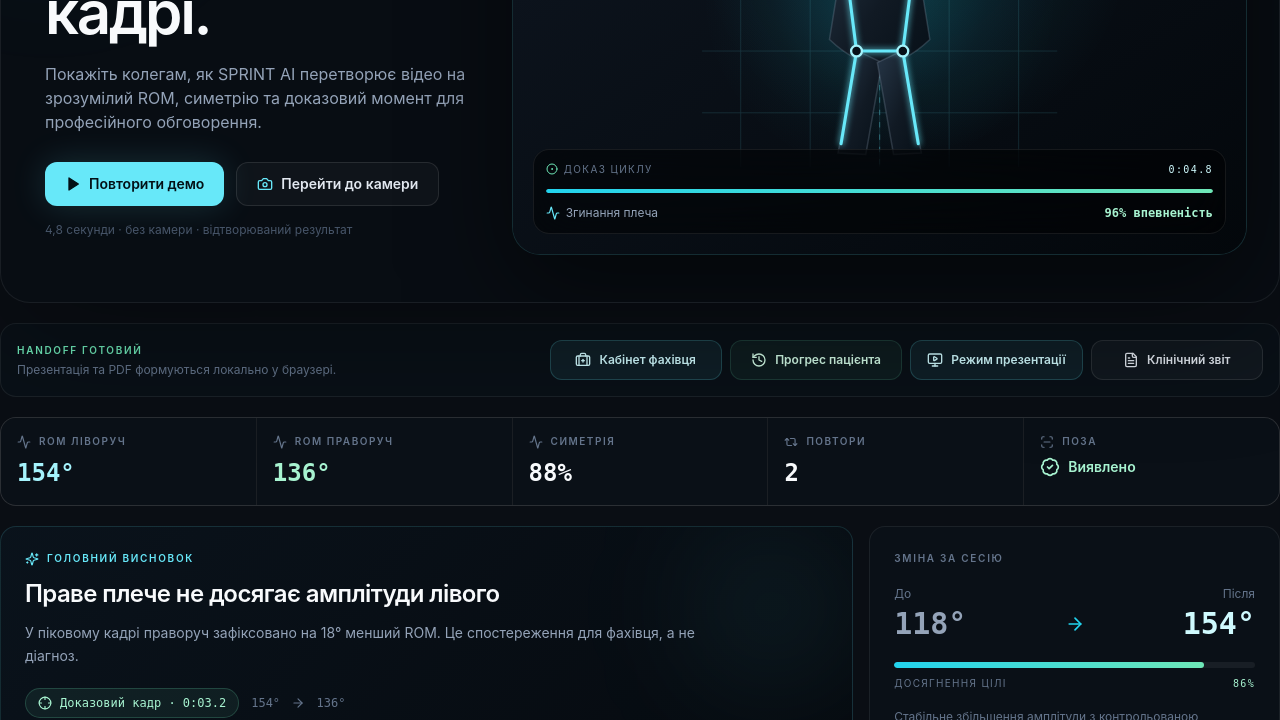
Test: RehabilitationPage › opens presentation and report from the completed demo
This screenshot has width=1280, height=720.
(page scrolled)
Click the button "Режим презентації".
click(996, 360)  # box left=910, top=340, right=1083, bottom=380
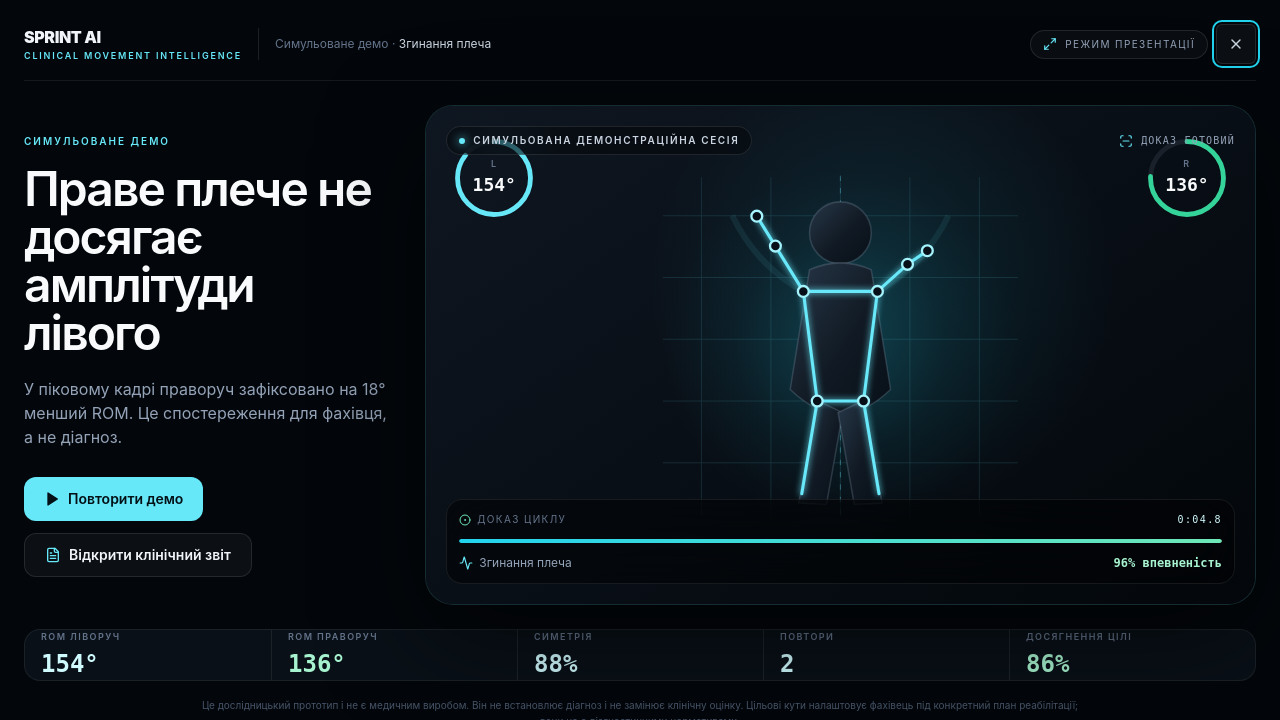
Check: the dialog named "Режим презентації" is shown
Click the button "Відкрити клінічний звіт".
click(138, 554)  # box left=24, top=532, right=252, bottom=576
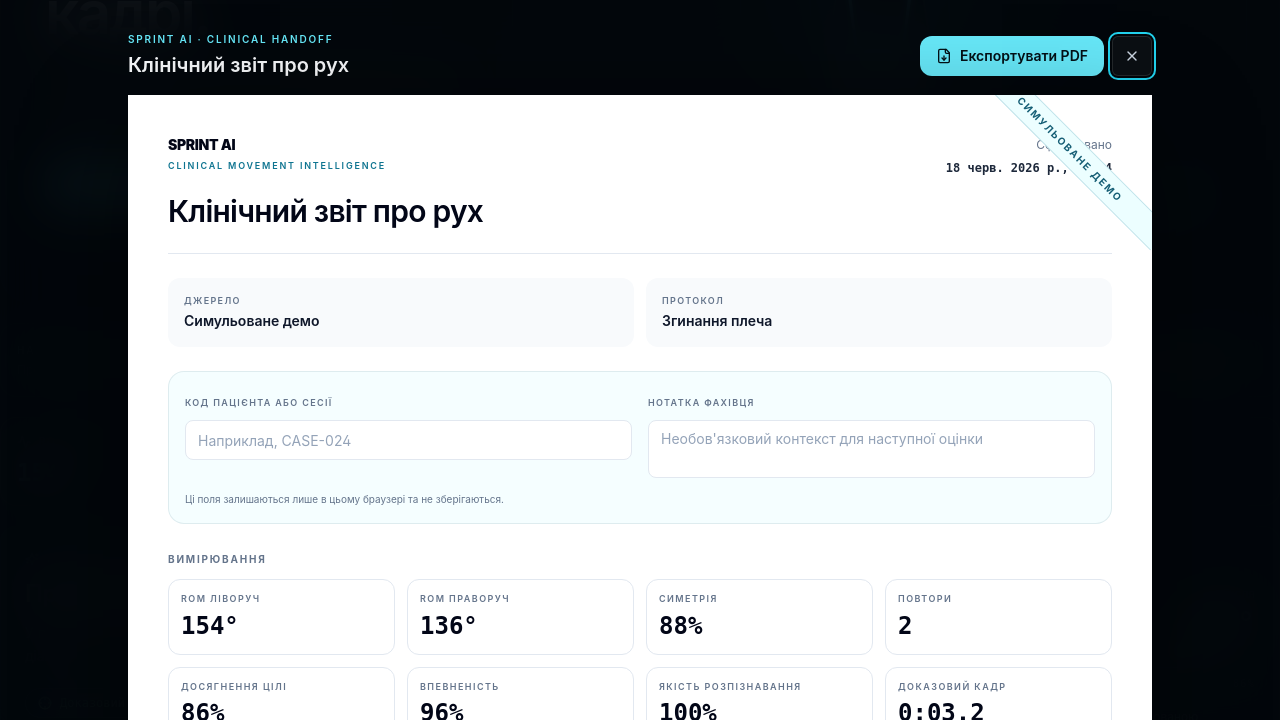
Check: the dialog "Клінічний звіт про рух" is shown
